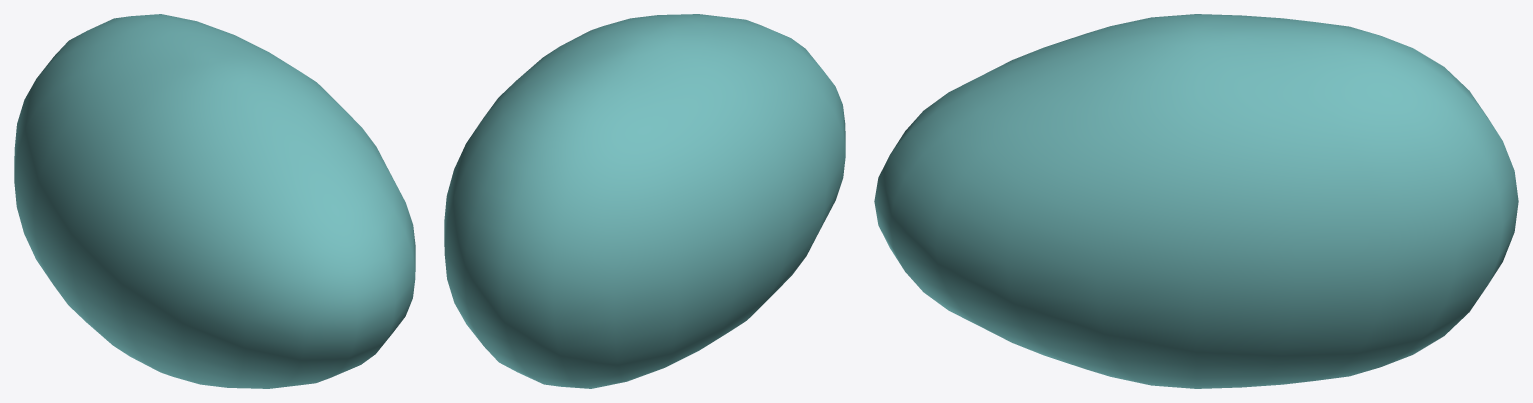
Rendered from Dot.gltf.
3 renders of one model, left to right at view 1: azimuth 30°, elevation 25°; view 2: azimuth 150°, elevation 25°; view 3: azimuth 270°, elevation 25°, orthographic. The views are drawn at different scales.
Visible parts, largest first — view 1: Dot_Egg_Shape_Grp; view 2: Dot_Egg_Shape_Grp; view 3: Dot_Egg_Shape_Grp.
Part boxes in pixels (left/top/right/bottom): Dot_Egg_Shape_Grp: left=14, top=14, right=415, bottom=388; Dot_Egg_Shape_Grp: left=444, top=14, right=845, bottom=388; Dot_Egg_Shape_Grp: left=874, top=14, right=1518, bottom=388.
Size of the model in its own units: 2 by 2 by 3.43.
